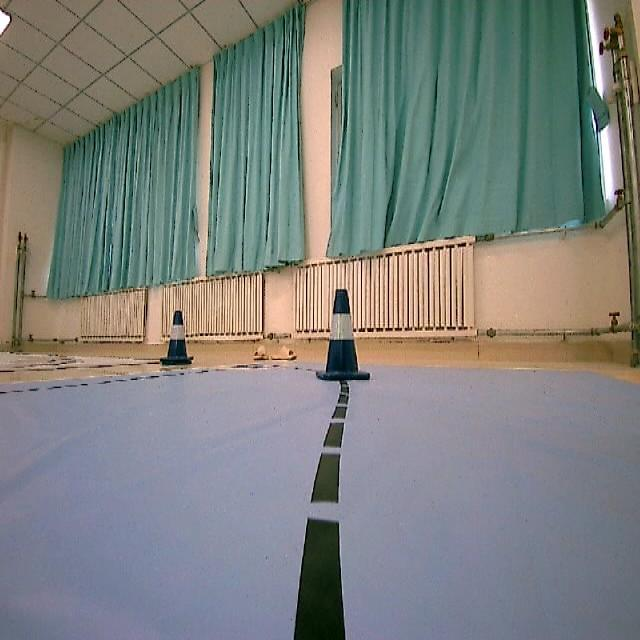obstacle: (308, 292, 383, 390), (158, 309, 196, 378)
